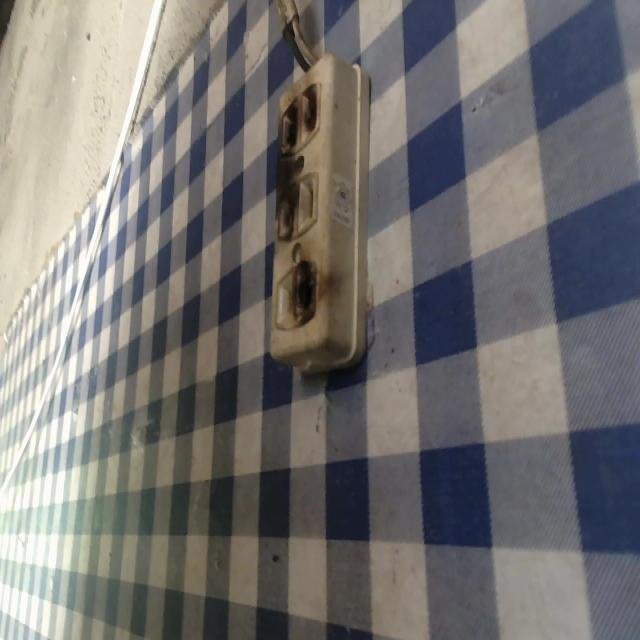-: (271, 74, 328, 154), (281, 255, 321, 333), (270, 176, 302, 247)
